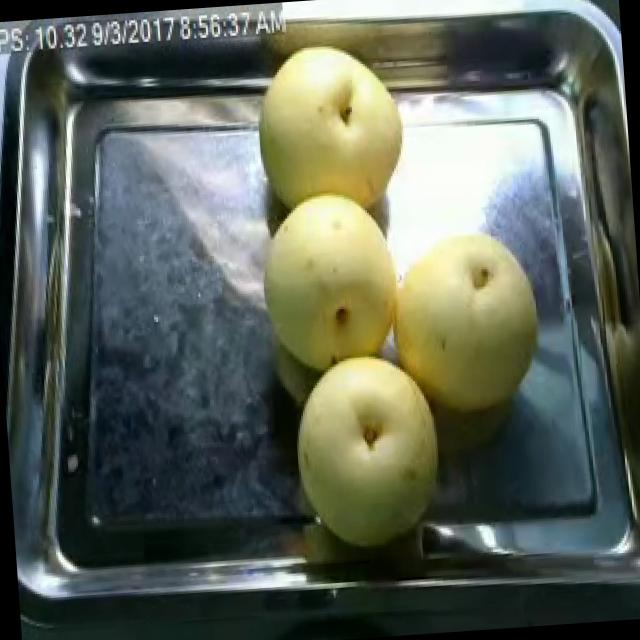Fruit: (276, 336, 460, 561), (243, 180, 416, 417), (380, 215, 556, 430), (245, 31, 420, 230)
